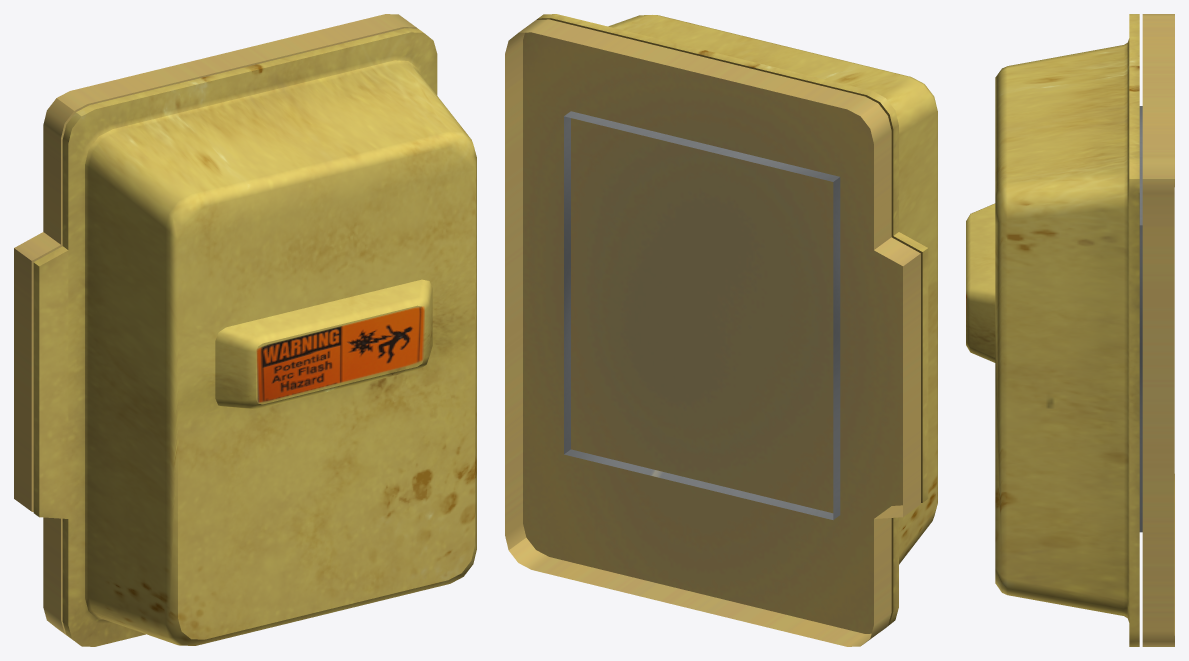
The model's file is electricBox_Base.fbx.
The picture shows the model from 3 angles, left to right: view 1: azimuth 30°, elevation 25°; view 2: azimuth 150°, elevation 25°; view 3: azimuth 270°, elevation 25°; orthographic projection. The views are drawn at different scales.
Parts seen in each view (by area): view 1: electricBox_cover, electricBox_Base; view 2: electricBox_Base, electricBox_cover; view 3: electricBox_cover, electricBox_Base.
Boxes of the visible parts, x1,y1,x2,y2 form: electricBox_cover: [33, 28, 476, 646]; electricBox_Base: [14, 14, 417, 640]; electricBox_Base: [505, 19, 920, 646]; electricBox_cover: [536, 14, 937, 630]; electricBox_cover: [966, 14, 1139, 646]; electricBox_Base: [1139, 14, 1174, 646].
Bounding box in the file's own units: 0.5377 × 0.6939 × 0.2689.
